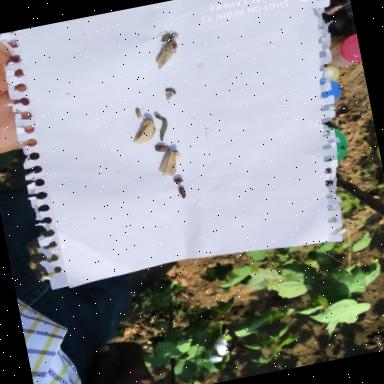abw: (150, 38, 186, 73), (150, 148, 185, 180), (128, 115, 160, 147)
pbw: (131, 106, 145, 121)
